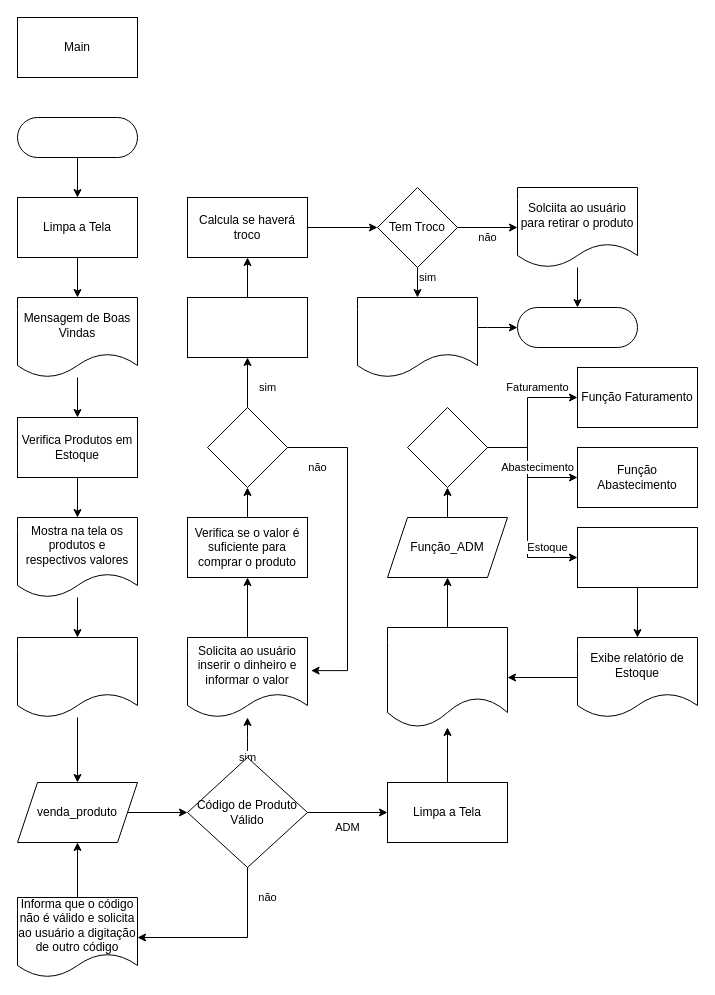
This 715x995 diagram has some shape labels left out. Here are the shapes that lost their labels. From the top down, the centre of each, then its label:
At [77,137]: "Inicio".
At [247,327]: "Faz baixa do estoque".
At [417,337]: "Informa o valor do troco e pede para o cliente retirar o troco e o produto".
At [577,327]: "Fim".
At [247,447]: "Valor Suficiente".
At [447,447]: "opção".
At [637,557]: "Verifica ítens em estoque".
At [77,677]: "Solicita ao usuário informar o produto desejado".
At [447,677]: "Menu Administrativo: Estoque Abastecimento Faturamento".
